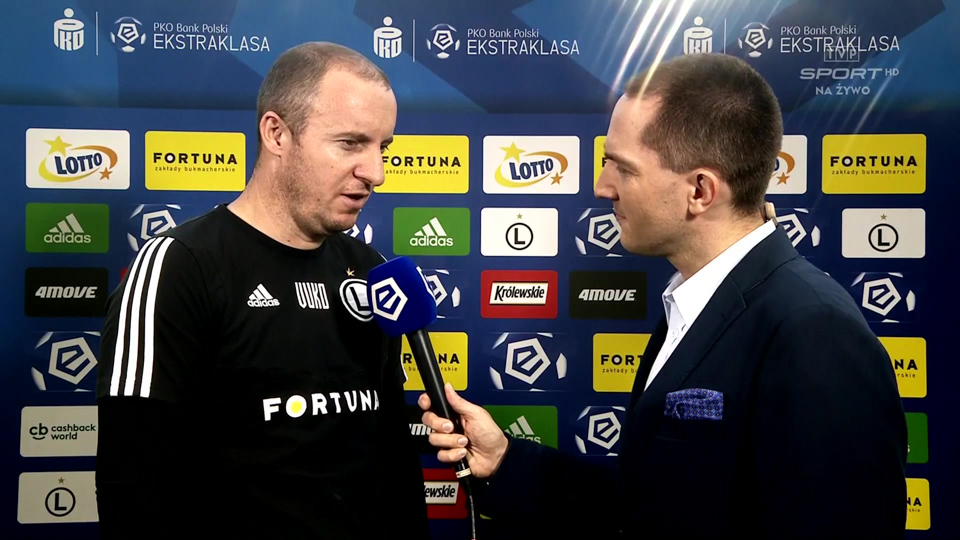Adidas: (42, 213, 96, 246), (408, 217, 456, 247), (245, 278, 282, 309)
